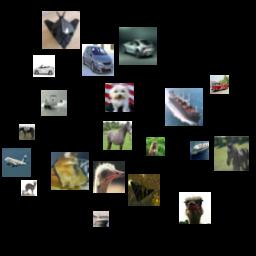airplane: (42, 11, 80, 49), (128, 174, 160, 206), (2, 148, 31, 177)
automobile: (119, 27, 157, 65), (82, 44, 114, 76), (33, 55, 55, 77)
bird: (93, 161, 125, 193), (179, 192, 211, 224)
cat: (51, 152, 89, 190), (146, 137, 165, 156)
deer: (21, 180, 37, 196)
dog: (105, 83, 134, 112)
ship: (165, 88, 203, 126), (41, 90, 67, 116), (190, 141, 209, 160), (93, 211, 109, 227)
truck: (210, 75, 229, 94)
